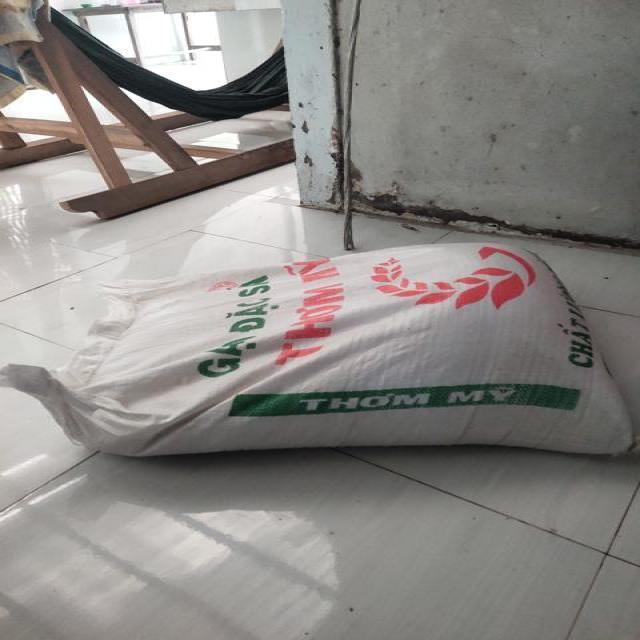gunny_bag: (1, 244, 633, 456)
